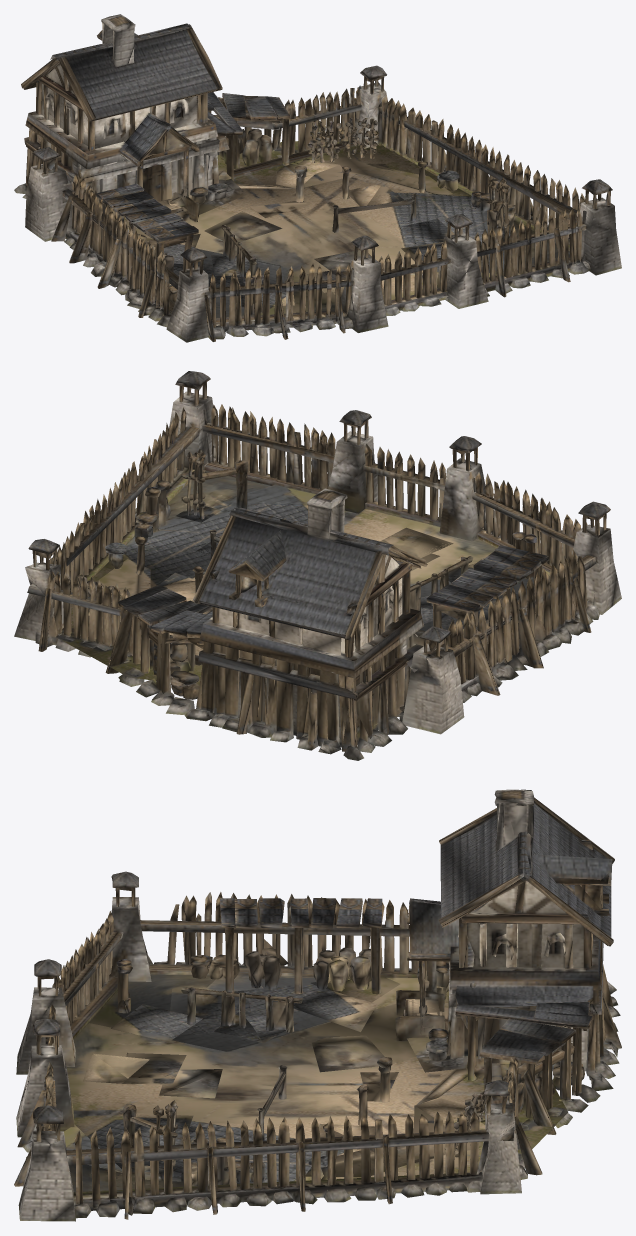
The model's file is Barracks.glb.
3 views of the same model, one above another, from view 1: azimuth 30°, elevation 25°; view 2: azimuth 150°, elevation 25°; view 3: azimuth 270°, elevation 25° (orthographic). The views are drawn at different scales.
Visible parts, largest first — view 1: Mesh_0; view 2: Mesh_0; view 3: Mesh_0.
Part boxes in pixels (x1,y1,x2,y2): Mesh_0: [14, 14, 621, 342]; Mesh_0: [14, 371, 621, 760]; Mesh_0: [14, 789, 621, 1221].
Bounding box in the file's own units: 0.3741 × 0.16 × 0.3733.
Materials: 1 (1 with a texture image).
